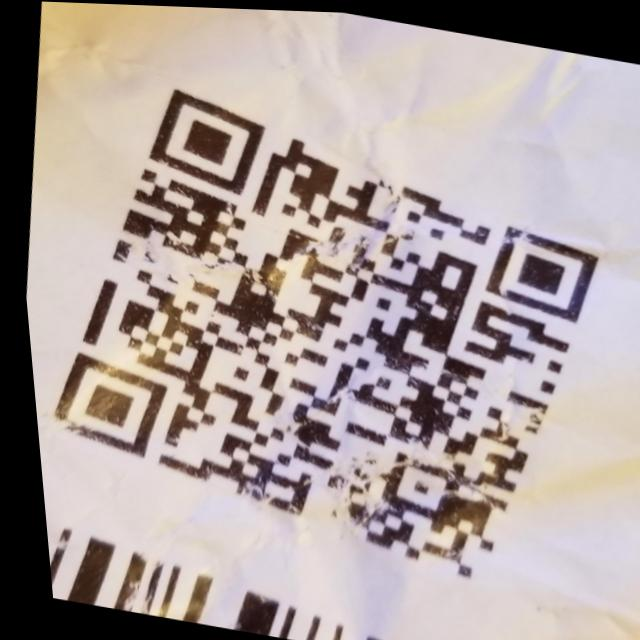QR_CODE: (4, 52, 640, 609)
